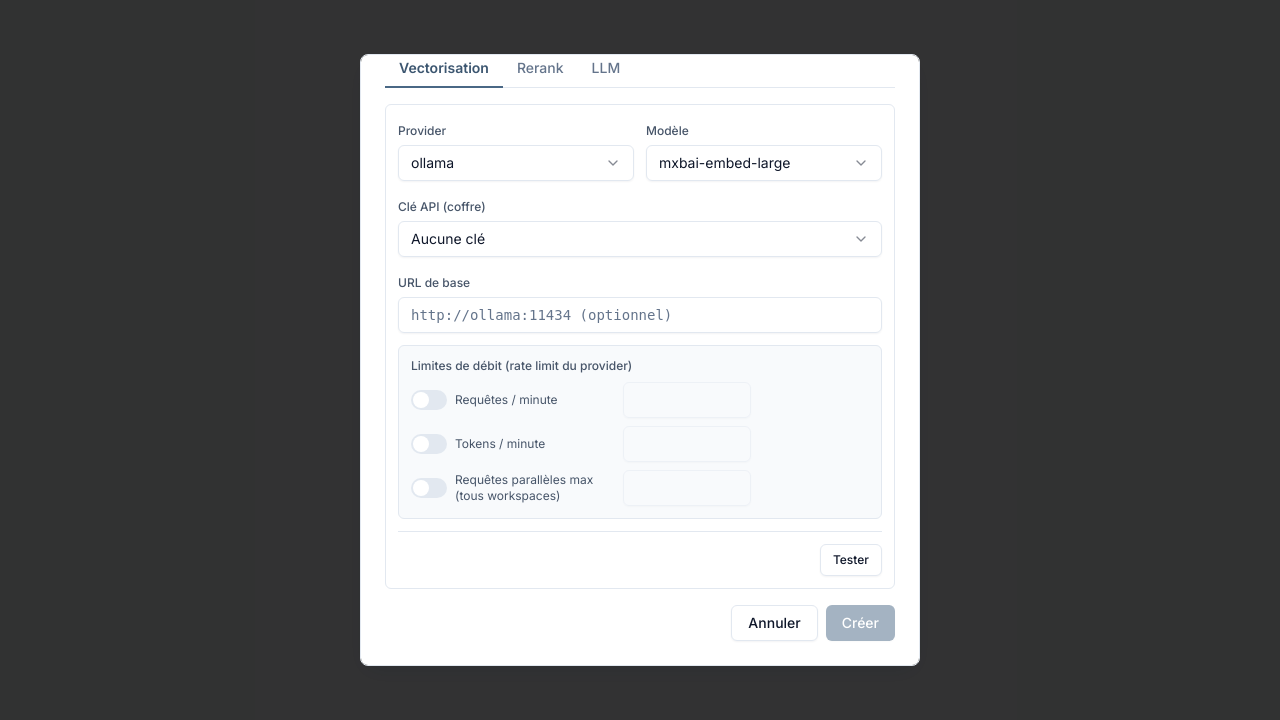
Test: EndpointFormDialog — onglets + test par service › teste la vectorisation depuis son onglet (payload de la seule section)
(page scrolled)
Step 1. Click the button "Tester" → click(851, 560), box [820,544,882,576]
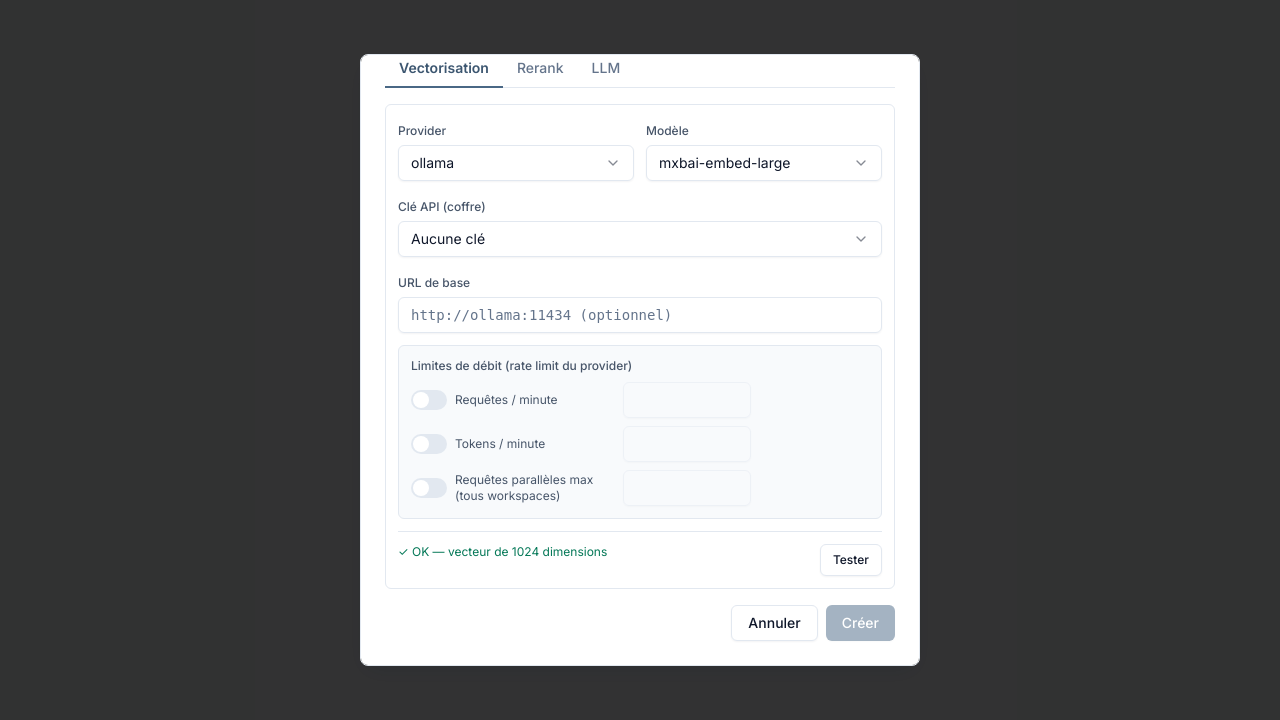
Expected: the text "mxbai-embed-large" is shown, [659,153,790,173]
Expected: the text "✓ OK — vecteur de 1024 dimensions" is shown, [398,544,607,559]
